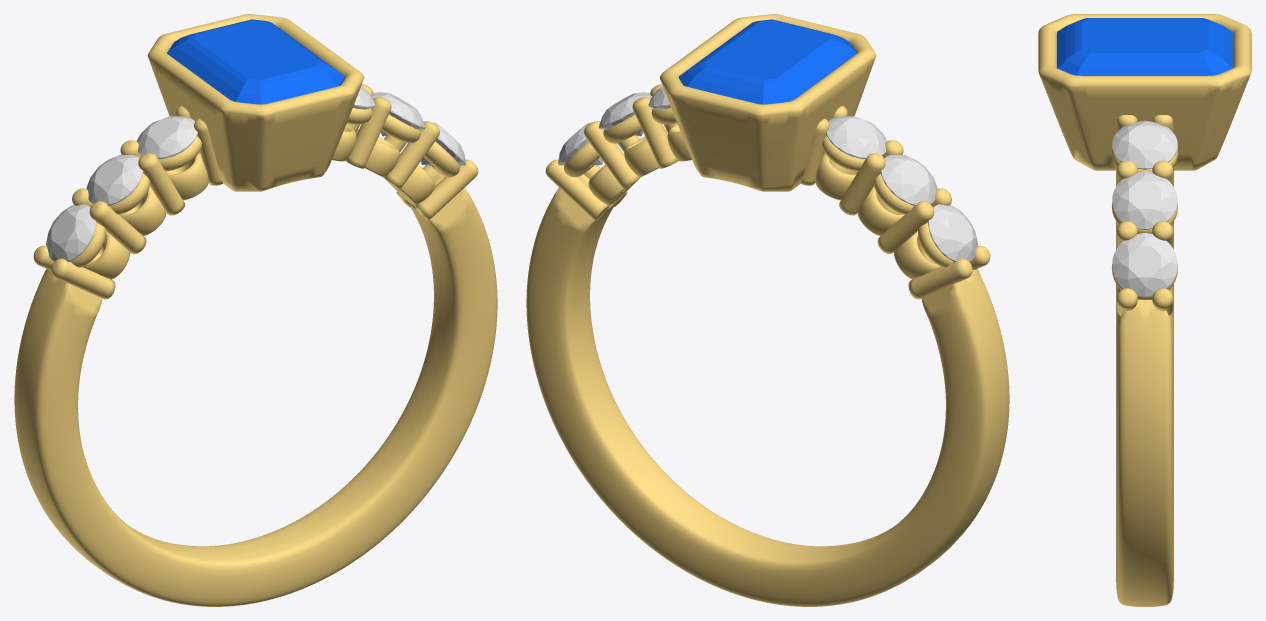
File: bluesapphire-emerald-yellowgold-bezelset-straightband-7stone.glb
The picture shows the model from 3 angles, left to right: view 1: azimuth 30°, elevation 25°; view 2: azimuth 150°, elevation 25°; view 3: azimuth 270°, elevation 25°; orthographic projection.
Parts seen in each view (by area): view 1: metal.001, stone.001, side.006, side.007, side.008, side.010; view 2: metal.001, stone.001, side.006, side.007, side.008, side.010, side.011; view 3: metal.001, stone.001, side.011, side.010, side.009.
Boxes of the visible parts, box(x1,y1,x2,y2) form: metal.001: box(14, 14, 497, 606); stone.001: box(167, 19, 344, 104); side.006: box(46, 204, 96, 261); side.007: box(86, 154, 143, 205); side.008: box(136, 116, 197, 159); side.010: box(371, 92, 425, 136); metal.001: box(526, 14, 1009, 606); stone.001: box(679, 19, 856, 104); side.006: box(927, 204, 977, 261); side.007: box(880, 154, 937, 205); side.008: box(826, 116, 887, 159); side.010: box(598, 92, 652, 136); side.011: box(558, 121, 602, 165); metal.001: box(1038, 14, 1251, 606); stone.001: box(1057, 18, 1232, 75); side.011: box(1112, 233, 1177, 296); side.010: box(1112, 171, 1177, 229); side.009: box(1112, 120, 1177, 169).
Bounding box in the file's own units: 20.5 × 22.94 × 8.11.
